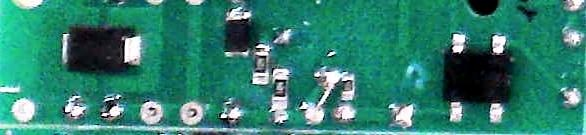chip-resistor: (270, 68, 290, 113), (253, 44, 270, 85), (339, 72, 357, 104)
diode: (57, 21, 147, 75), (220, 7, 252, 59)
ic: (441, 29, 511, 126)
